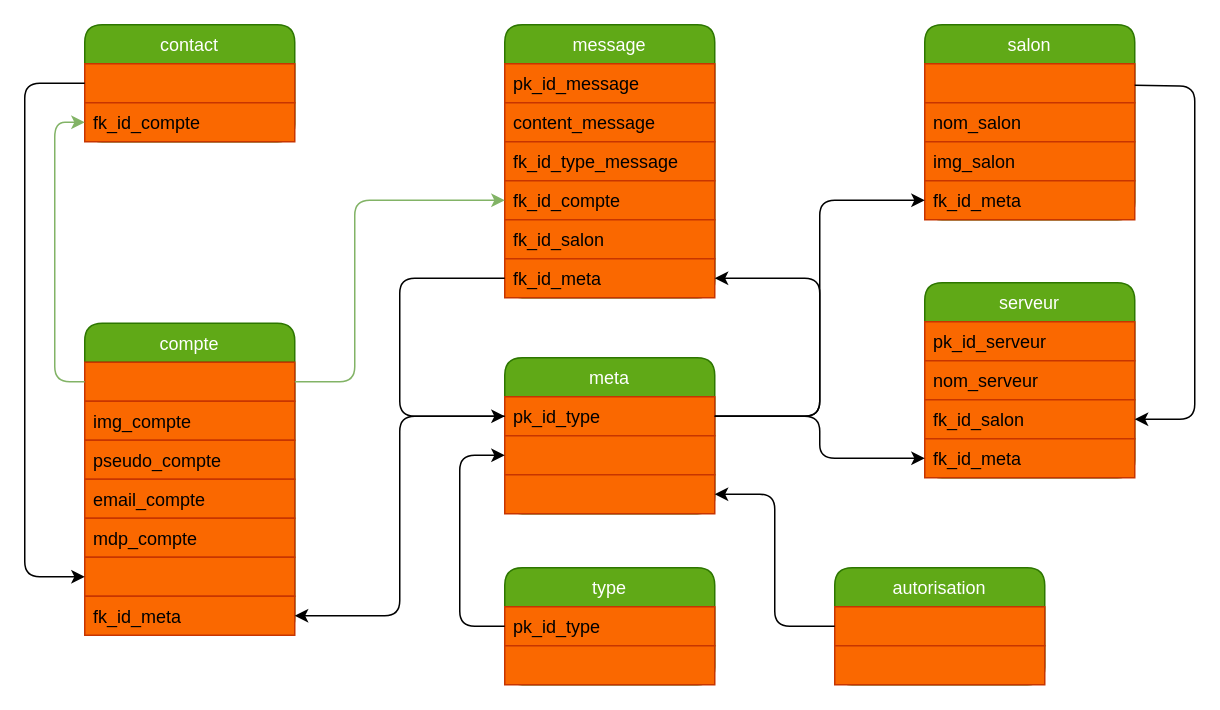
Some shapes in this 1220 by 710 pixel diagram are drawn without their labels. The shapes that lost their labels are listed below. From the top down, each one's centre as x and y in pixels, then its label:
point (189, 82): pk_id_contact
point (1029, 82): pk_id_salon
point (189, 381): pk_id_compte
point (609, 454): fk_id_type
point (609, 493): fk_id_autorisation
point (189, 576): fk_id_contact
point (939, 625): pk_id_autorisation
point (609, 664): nom_type
point (939, 664): nom_autorisation
